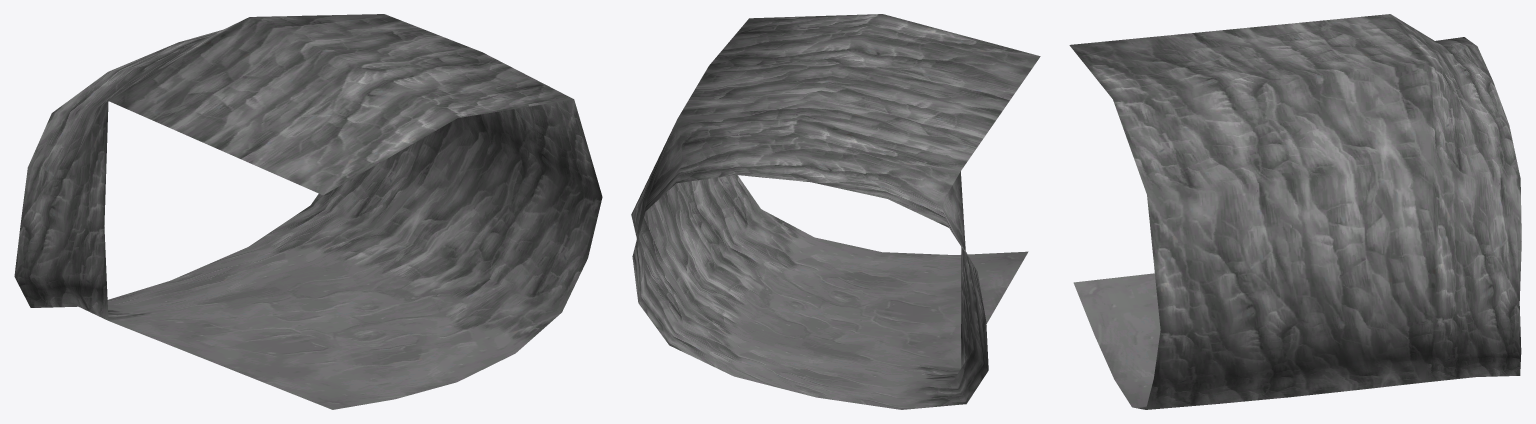
Rendered from SWORDLIGHT20_PS-AREA03-04TRANS_04.fbx.
3 renders of one model, left to right at view 1: azimuth 30°, elevation 25°; view 2: azimuth 150°, elevation 25°; view 3: azimuth 270°, elevation 25°, orthographic. The views are drawn at different scales.
Visible parts, largest first — view 1: SWORDLIGHT20_PS-AREA03-04TRANS_04; view 2: SWORDLIGHT20_PS-AREA03-04TRANS_04; view 3: SWORDLIGHT20_PS-AREA03-04TRANS_04.
Part boxes in pixels (x1,y1,x2,y2): SWORDLIGHT20_PS-AREA03-04TRANS_04: (14, 14, 602, 409); SWORDLIGHT20_PS-AREA03-04TRANS_04: (631, 14, 1040, 409); SWORDLIGHT20_PS-AREA03-04TRANS_04: (1069, 14, 1521, 409).
Size of the model in its own units: 78532 by 45960 by 64936.
3 materials, 3 textured.
